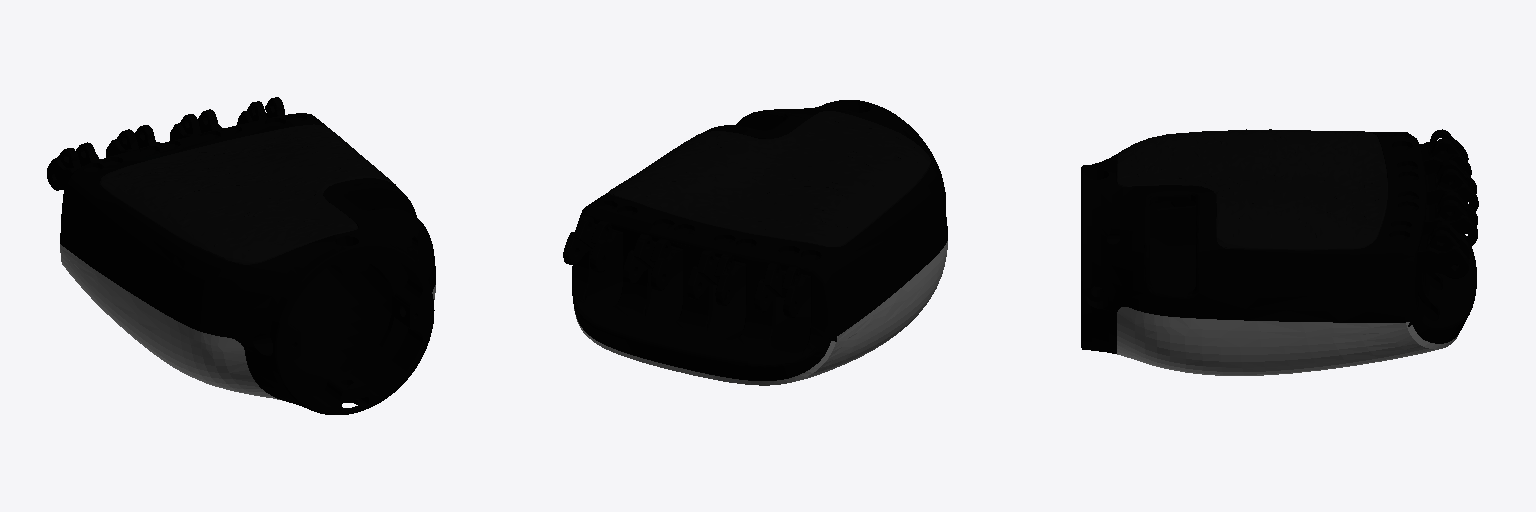
The model's file is R_hand_base_link.obj.
The picture shows the model from 3 angles: view 1: azimuth 30°, elevation 25°; view 2: azimuth 150°, elevation 25°; view 3: azimuth 270°, elevation 25°; orthographic projection.
Parts seen in each view (by area): view 1: R_hand_base_link; view 2: R_hand_base_link; view 3: R_hand_base_link.
Part boxes in pixels (x1,y1,x2,y2): R_hand_base_link: (47,97,435,414); R_hand_base_link: (563,100,947,385); R_hand_base_link: (1081,129,1478,375).
Size of the model in its own units: 0.0773 by 0.0472 by 0.0996.